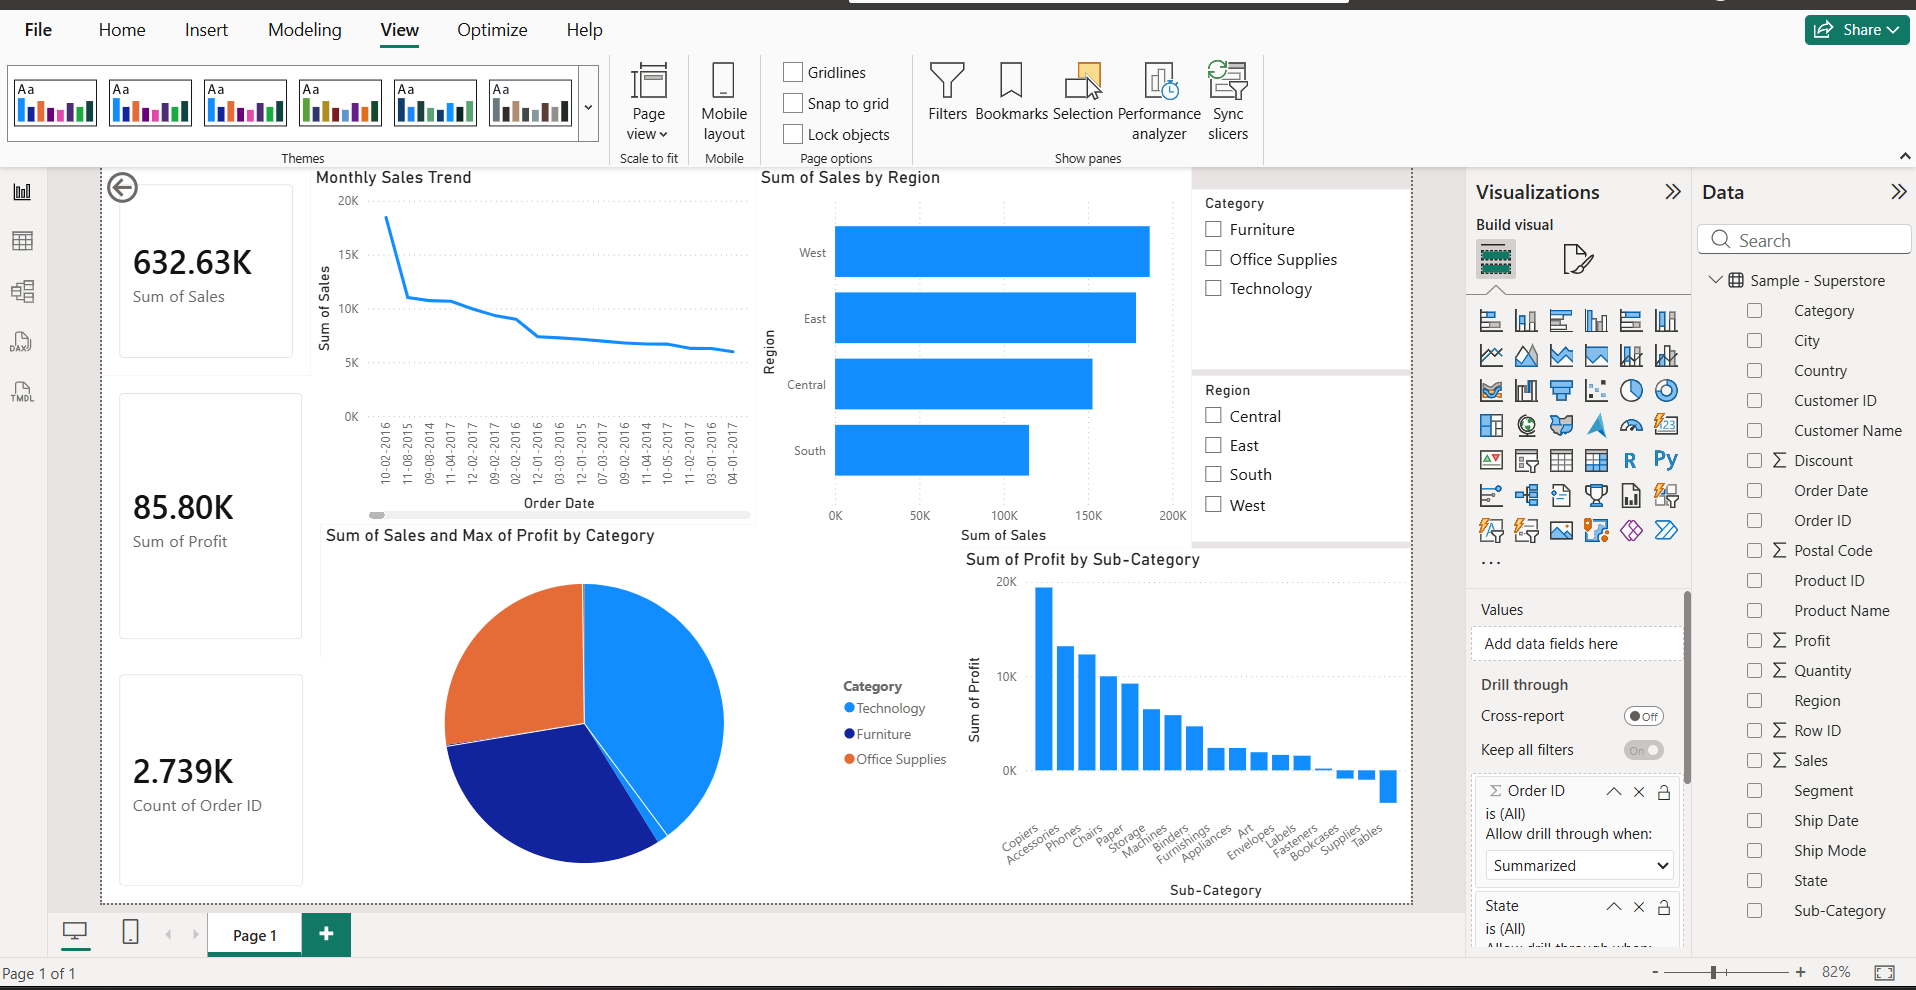

This screenshot's page, from the dashboard's own definition file:
{"tool":"powerbi","page":{"name":"Page 1","canvas":[1280,720],"ordinal":0},"visuals":[{"type":"cardVisual","fields":{"Data":["Sum(Sample - Superstore.Sales)"]},"box":[0,0,204.2,204.2],"z":1},{"type":"actionButton","box":[0,0,100,40],"z":2},{"type":"cardVisual","fields":{"Data":["Sum(Sample - Superstore.Profit)"]},"box":[0,204.2,214,275.1],"z":7},{"type":"cardVisual","fields":{"Data":["CountNonNull(Sample - Superstore.Order ID)"]},"box":[0,478.9,214.1,241.5],"z":8},{"type":"lineChart","title":"Monthly Sales Trend","fields":{"Category":["Sample - Superstore.Order Date"],"Y":["Sum(Sample - Superstore.Sales)"]},"box":[204.2,0,435.3,349.7],"z":9},{"type":"pieChart","fields":{"Category":["Sample - Superstore.Category","Sample - Superstore.City"],"Y":["Sum(Sample - Superstore.Sales)","Max(Sample - Superstore.Profit)"]},"box":[214,349.7,626.1,370.5],"z":10},{"type":"barChart","fields":{"Y":["Sum(Sample - Superstore.Sales)"],"Category":["Sample - Superstore.Region"]},"box":[639.5,0,426.8,373],"z":11},{"type":"clusteredColumnChart","fields":{"Category":["Sample - Superstore.Sub-Category"],"Y":["Sum(Sample - Superstore.Profit)"]},"box":[840.1,373,440.2,347.3],"z":12},{"type":"slicer","fields":{"Values":["Sample - Superstore.Region"]},"box":[1066.3,204.2,214,162.6],"z":13},{"type":"slicer","fields":{"Values":["Sample - Superstore.Category"]},"box":[1066.3,22,214,176.1],"z":14}]}

Visuals, with their boxes on the page's 1280x720 design canvas (x1, y1, x2, y2). These are canvas units, not pixel positions in the 1916x990 screenshot, which may show the page scaled, cropped or inside an application window:
cardVisual - Sum(Sample - Superstore.Sales): x1=0 y1=0 x2=204 y2=204
actionButton: x1=0 y1=0 x2=100 y2=40
cardVisual - Sum(Sample - Superstore.Profit): x1=0 y1=204 x2=214 y2=479
cardVisual - CountNonNull(Sample - Superstore.Order ID): x1=0 y1=479 x2=214 y2=720
"Monthly Sales Trend" lineChart: x1=204 y1=0 x2=640 y2=350
pieChart - Sample - Superstore.Category x Sample - Superstore.City: x1=214 y1=350 x2=840 y2=720
barChart - Sum(Sample - Superstore.Sales) x Sample - Superstore.Region: x1=640 y1=0 x2=1066 y2=373
clusteredColumnChart - Sample - Superstore.Sub-Category x Sum(Sample - Superstore.Profit): x1=840 y1=373 x2=1280 y2=720
slicer - Sample - Superstore.Region: x1=1066 y1=204 x2=1280 y2=367
slicer - Sample - Superstore.Category: x1=1066 y1=22 x2=1280 y2=198
